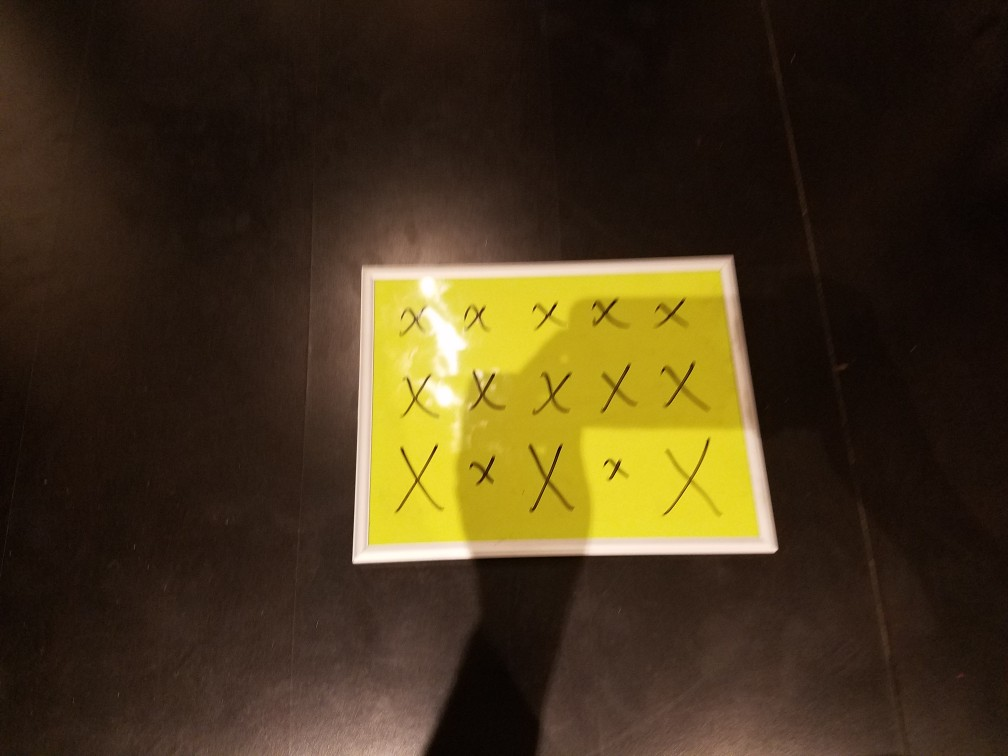x: (651, 433, 733, 533), (518, 430, 581, 518), (652, 351, 713, 428), (394, 440, 446, 524), (589, 351, 641, 424), (530, 358, 577, 423), (398, 366, 440, 426), (583, 288, 630, 339), (647, 289, 697, 333), (465, 360, 500, 420), (393, 298, 436, 346), (527, 293, 569, 339), (462, 453, 506, 495), (459, 300, 497, 340), (599, 448, 634, 489)
